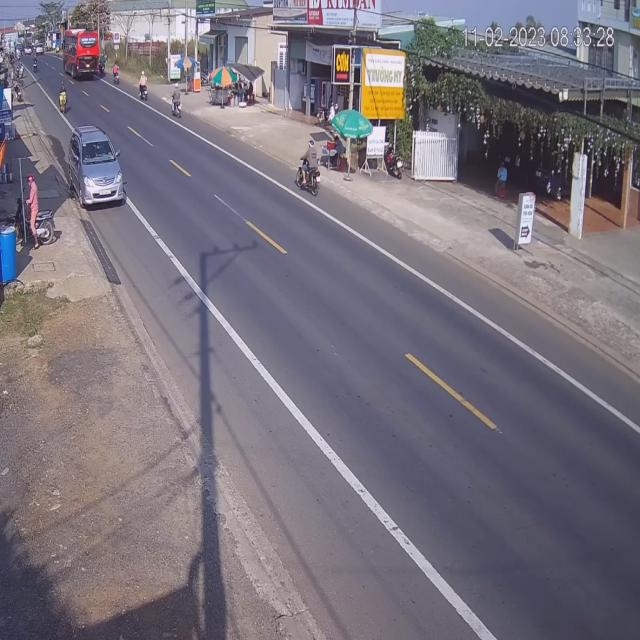bus: (64, 28, 99, 80)
car: (68, 125, 126, 209)
motorbike: (294, 139, 320, 199), (171, 88, 182, 121), (138, 74, 149, 106), (60, 86, 70, 116), (113, 63, 120, 86)
